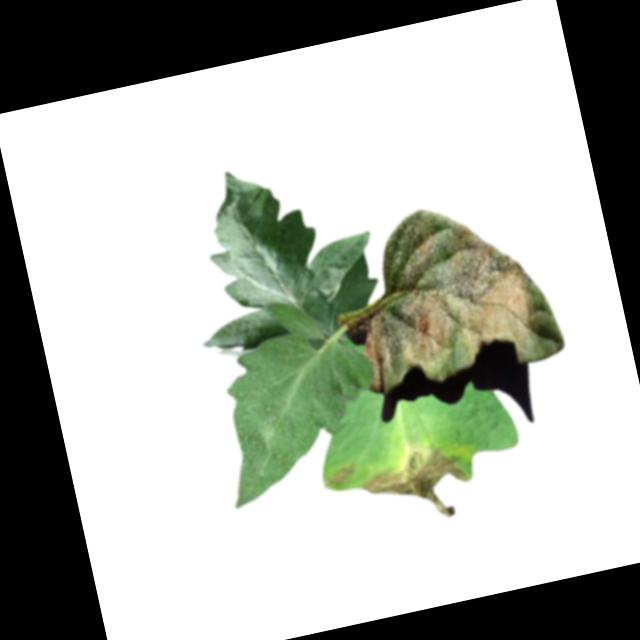Late_blight: (337, 183, 568, 398), (357, 437, 477, 534), (320, 464, 357, 492)
